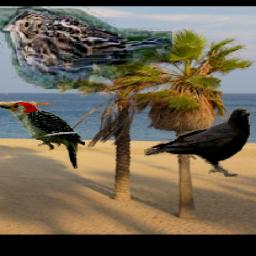Crow: (144, 107, 250, 177)
Sparrow: (0, 7, 172, 90)
Woodpecker: (0, 101, 86, 169)
